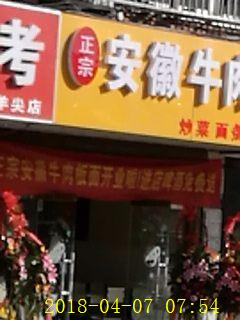multi_signs: (62, 12, 239, 149), (0, 141, 222, 207)
